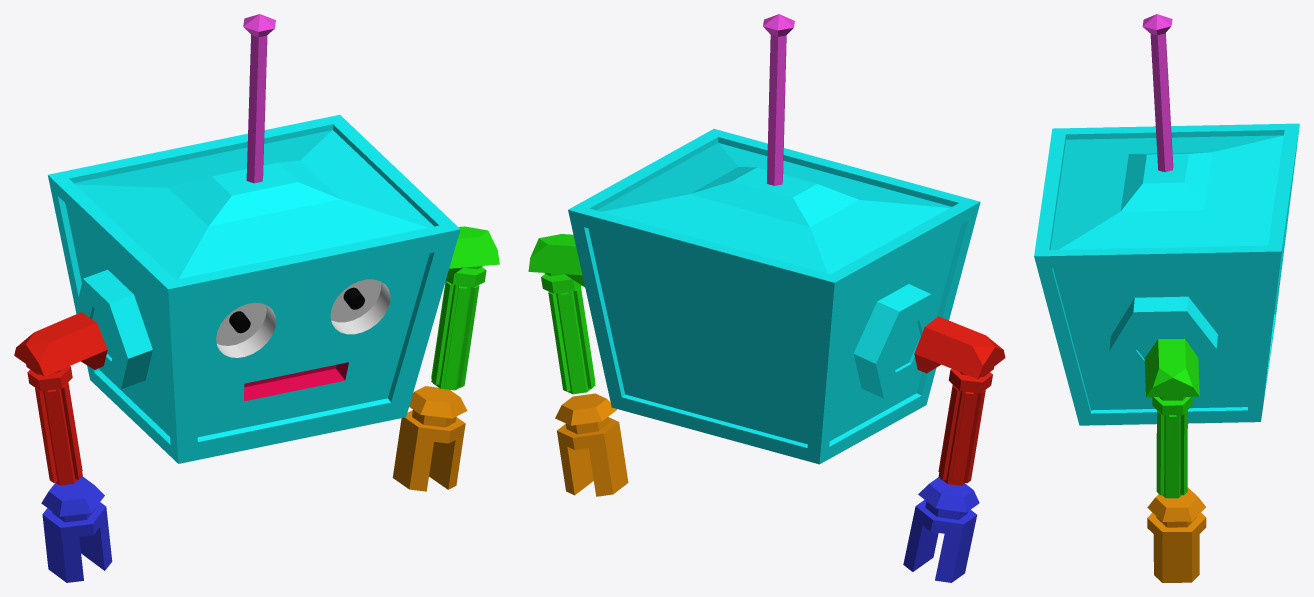
File: robot (2).fbx
The picture shows the model from 3 angles, left to right: view 1: azimuth 30°, elevation 25°; view 2: azimuth 150°, elevation 25°; view 3: azimuth 270°, elevation 25°; orthographic projection. The views are drawn at different scales.
Visible parts, largest first — view 1: Body, Рука правая, Кисть левая, Рука левая, Кисть правая; view 2: Body, Рука правая, Рука левая, Кисть левая, Кисть правая; view 3: Body, Рука левая, Кисть левая.
Part boxes in pixels (x1=…): Body: x1=48, y1=14, x2=460, y2=463; Рука правая: x1=14, y1=312, x2=107, y2=485; Кисть левая: x1=392, y1=386, x2=467, y2=491; Рука левая: x1=431, y1=226, x2=499, y2=390; Кисть правая: x1=41, y1=476, x2=112, y2=582; Body: x1=568, y1=14, x2=980, y2=464; Рука правая: x1=914, y1=316, x2=1005, y2=485; Рука левая: x1=528, y1=234, x2=595, y2=394; Кисть левая: x1=555, y1=393, x2=628, y2=496; Кисть правая: x1=903, y1=477, x2=979, y2=582; Body: x1=1034, y1=14, x2=1299, y2=425; Рука левая: x1=1144, y1=338, x2=1199, y2=498; Кисть левая: x1=1147, y1=487, x2=1206, y2=582.
Bounding box in the file's own units: 13.5 × 24.99 × 26.92.
